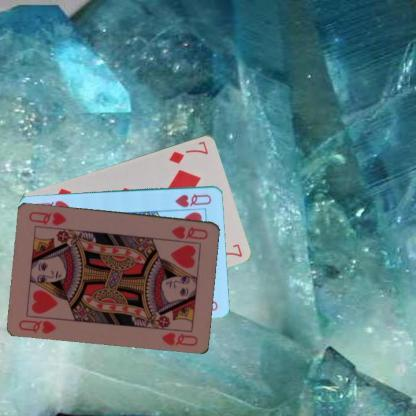7d: (166, 138, 210, 165)
Qh: (16, 316, 58, 335), (168, 223, 210, 241), (172, 191, 213, 209)
